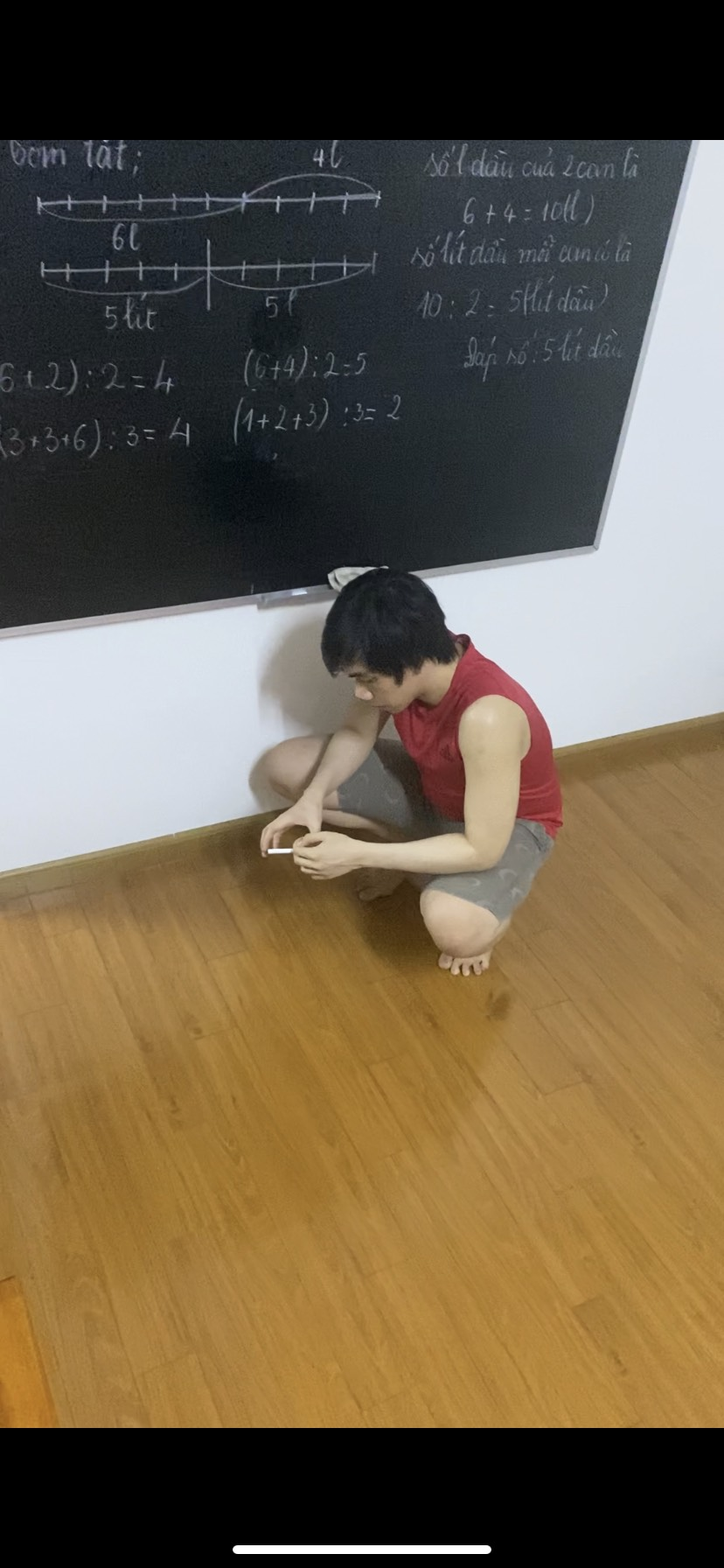cigarette: (265, 844, 296, 858)
person: (243, 571, 568, 980)
